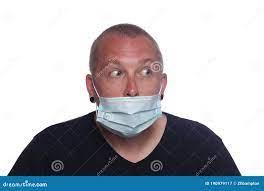mask: (91, 89, 168, 143)
